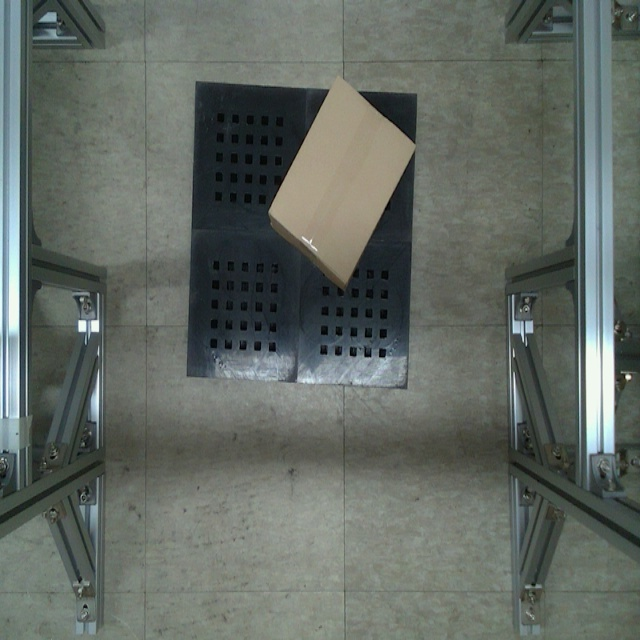box: (267, 72, 418, 292)
pallet: (182, 76, 426, 395)
